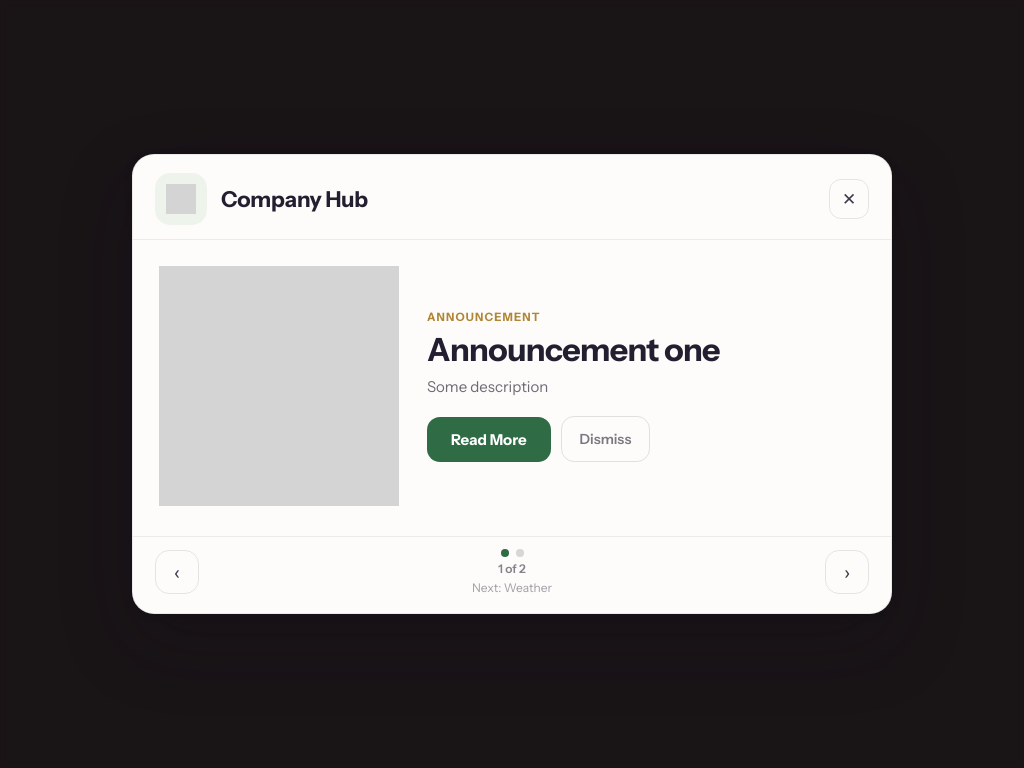
CompanyHub › is NOT repeated under the announcements — it is a slide of its own
Expected: the heading "Announcement one" is shown, x1=427 y1=332 x2=720 y2=368
...it is one arrow away, and then it is the only thing on screen.
Click the button named "Next item". click: x=847, y=572
box: x1=825 y1=550 x2=869 y2=594
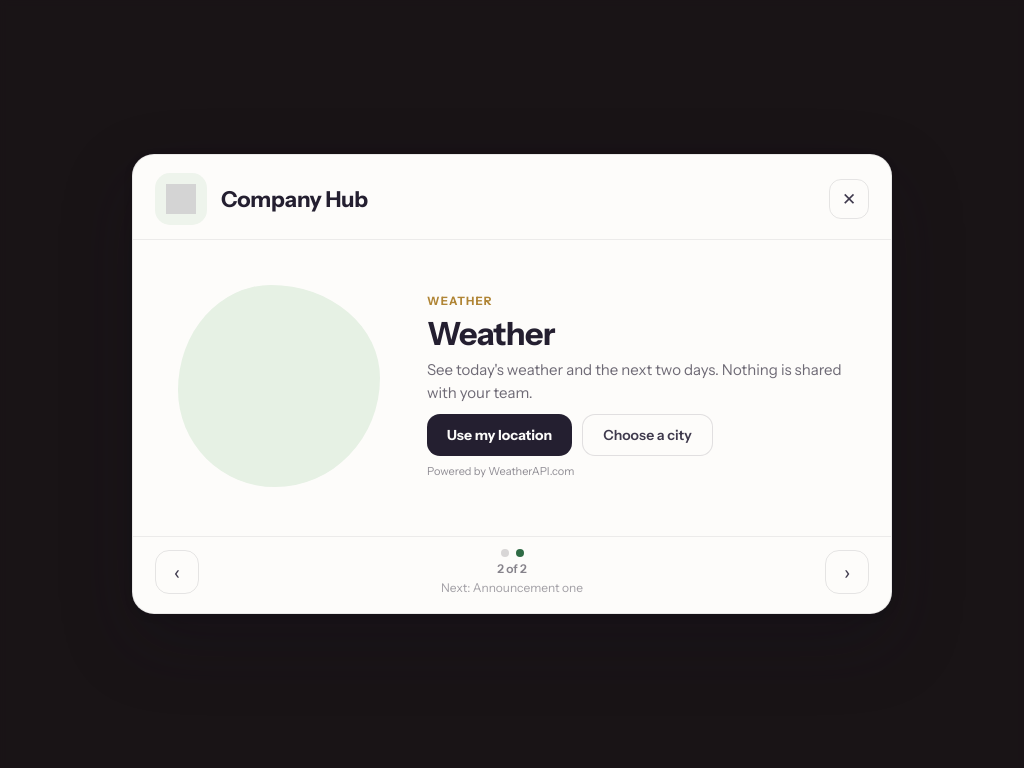
Expected: the number of elements named "Weather forecast" is 1, x1=155 y1=244 x2=869 y2=528
